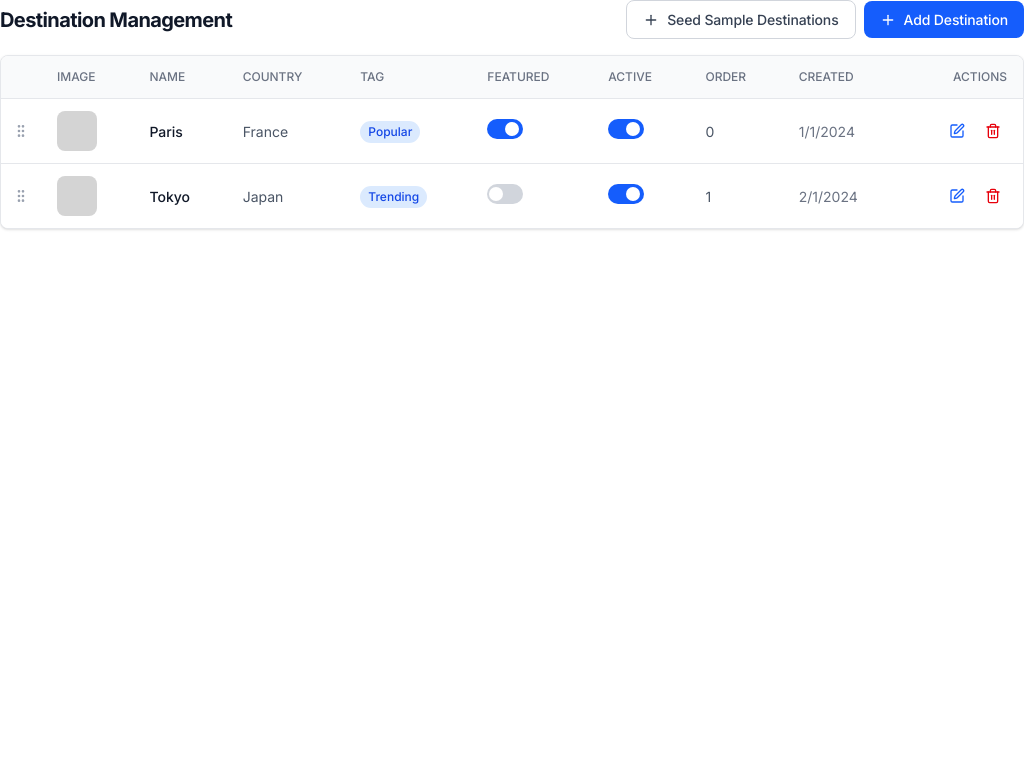
Test: DestinationManagement › Delete confirmation dialog (Requirements 2.9) › shows confirmation dialog when delete button is clicked
The image size is (1024, 768).
Expected: the text "Paris" is shown, [133,98,227,164]
Note: Click the delete button for the first destination
Click the button titled "Delete" in the row of "Paris": [993, 131] box [979,117,1007,145]
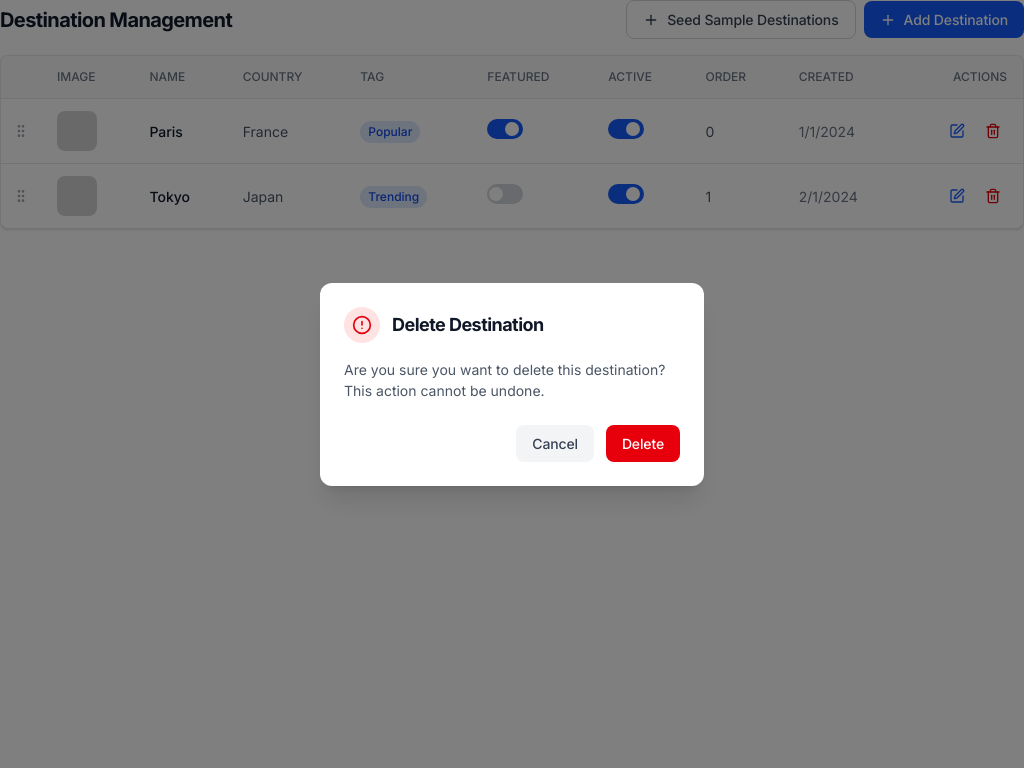
Expected: the heading "Delete Destination" is shown, [392,315,544,334]
Expected: the text "Are you sure you want to delete this destination? This action cannot be undone." is shown, [344,358,680,400]
Expected: the button "Cancel" is shown, [516,424,594,462]
